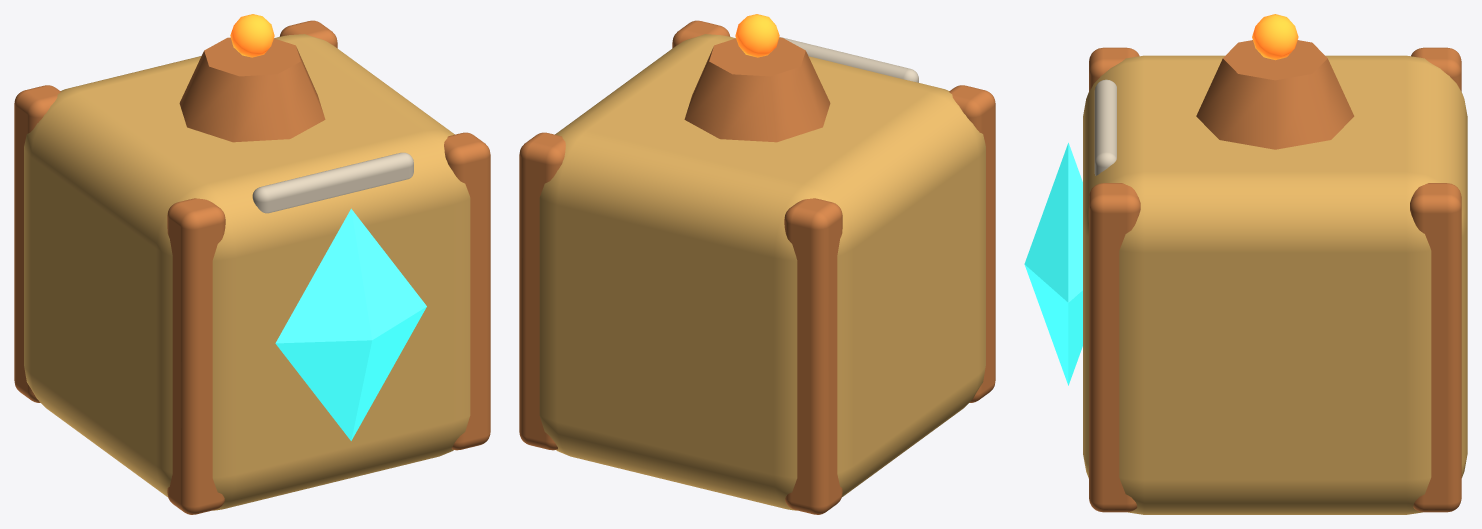
File: power.glb
The picture shows the model from 3 angles, left to right: view 1: azimuth 30°, elevation 25°; view 2: azimuth 150°, elevation 25°; view 3: azimuth 270°, elevation 25°; orthographic projection. The views are drawn at different scales.
Visible parts, largest first — view 1: solid gold charge, corner armour (×4), indicator, gold top socket, upper status plate, ember tip; view 2: solid gold charge, corner armour (×4), gold top socket, upper status plate, ember tip; view 3: solid gold charge, corner armour (×4), gold top socket, indicator, upper status plate, ember tip.
Boxes of the visible parts, bbox=[...] form: solid gold charge: bbox=[24, 34, 470, 510]; corner armour (×4): bbox=[14, 20, 490, 514]; indicator: bbox=[275, 208, 426, 440]; gold top socket: bbox=[179, 37, 325, 142]; upper status plate: bbox=[252, 152, 413, 213]; ember tip: bbox=[230, 14, 274, 57]; solid gold charge: bbox=[539, 34, 985, 510]; corner armour (×4): bbox=[519, 20, 995, 514]; gold top socket: bbox=[684, 37, 830, 142]; upper status plate: bbox=[779, 37, 918, 82]; ember tip: bbox=[735, 14, 779, 57]; solid gold charge: bbox=[1083, 55, 1467, 514]; corner armour (×4): bbox=[1089, 47, 1461, 512]; gold top socket: bbox=[1196, 40, 1354, 149]; indicator: bbox=[1024, 142, 1082, 385]; upper status plate: bbox=[1094, 79, 1116, 175]; ember tip: bbox=[1252, 14, 1298, 60].
Size of the model in its own units: 0.66 by 0.83 by 0.7606.
